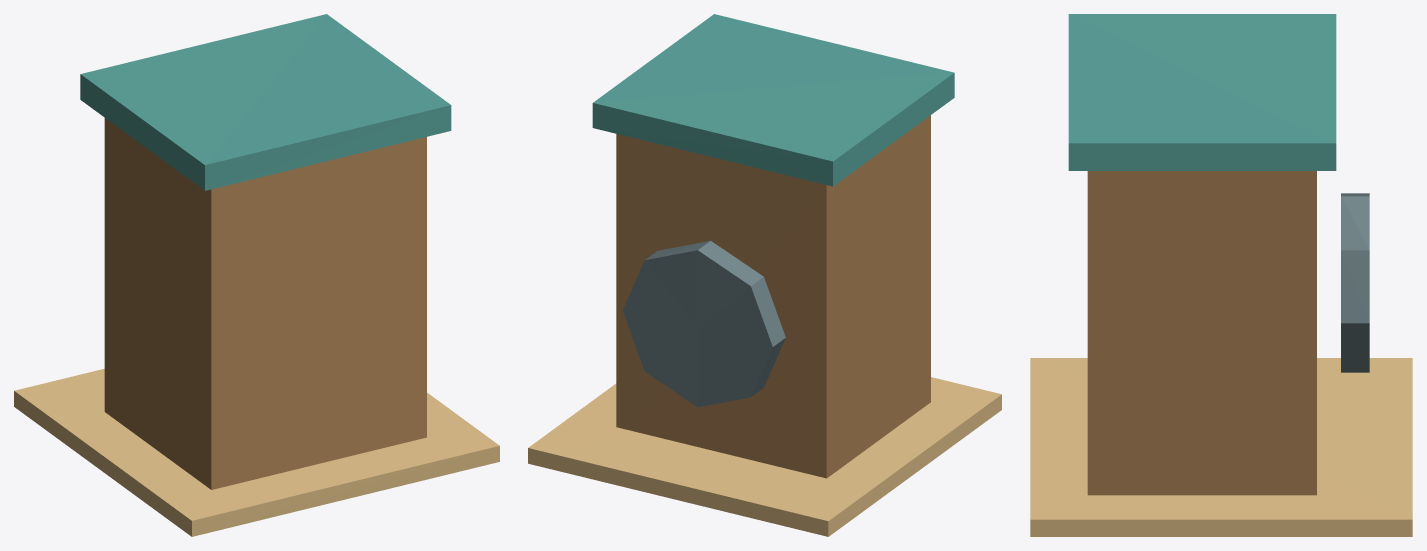
File: evaporative-cooler.source.glb
The picture shows the model from 3 angles, left to right: view 1: azimuth 30°, elevation 25°; view 2: azimuth 150°, elevation 25°; view 3: azimuth 270°, elevation 25°; orthographic projection. The views are drawn at different scales.
Parts seen in each view (by area): view 1: evaporative-cooler-body-mesh, evaporative-cooler-roof-mesh, evaporative-cooler-base-mesh; view 2: evaporative-cooler-body-mesh, evaporative-cooler-roof-mesh, evaporative-cooler-base-mesh, evaporative-cooler-fan-mesh; view 3: evaporative-cooler-body-mesh, evaporative-cooler-roof-mesh, evaporative-cooler-base-mesh, evaporative-cooler-fan-mesh.
Boxes of the visible parts, box(x1,y1,x2,y2) form: evaporative-cooler-body-mesh: box(104, 118, 426, 489); evaporative-cooler-roof-mesh: box(80, 14, 451, 190); evaporative-cooler-base-mesh: box(14, 368, 499, 536); evaporative-cooler-body-mesh: box(616, 115, 930, 478); evaporative-cooler-roof-mesh: box(592, 14, 954, 186); evaporative-cooler-base-mesh: box(528, 377, 1001, 536); evaporative-cooler-fan-mesh: box(622, 240, 785, 407); evaporative-cooler-body-mesh: box(1087, 171, 1316, 495); evaporative-cooler-roof-mesh: box(1068, 14, 1336, 170); evaporative-cooler-base-mesh: box(1030, 358, 1412, 536); evaporative-cooler-fan-mesh: box(1341, 193, 1369, 372).
Bounding box in the file's own units: 2 × 2.18 × 2.
